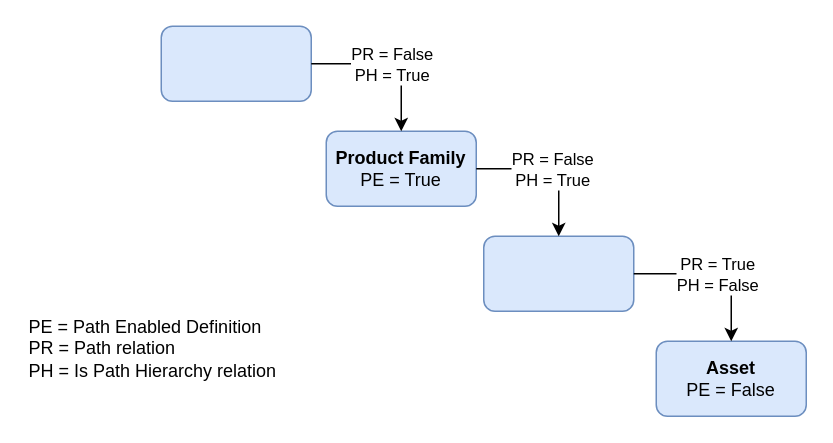
This 833x443 diagram has some shape labels left out. The shapes that lost their labels are listed below. From the top down, each one's box as (x1, y1, x2, y2) in pixels, then its label:
(160, 25, 311, 101): Brand PE = True
(482, 235, 634, 311): Product PE = True
